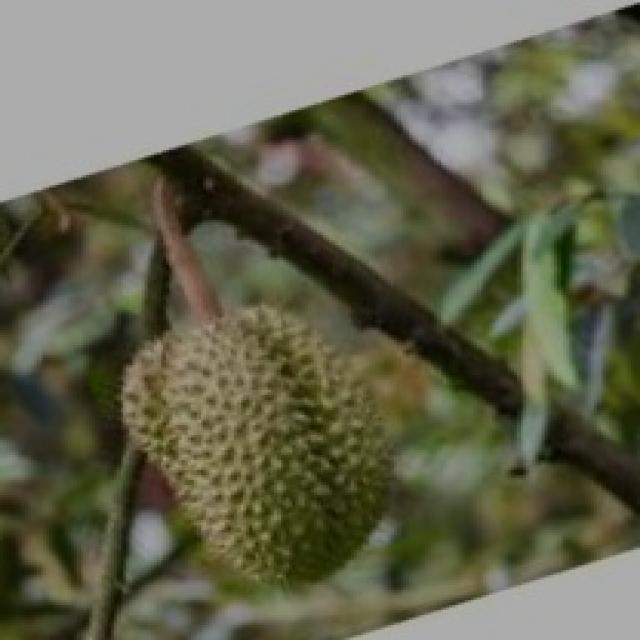fruit: (80, 258, 449, 620)
